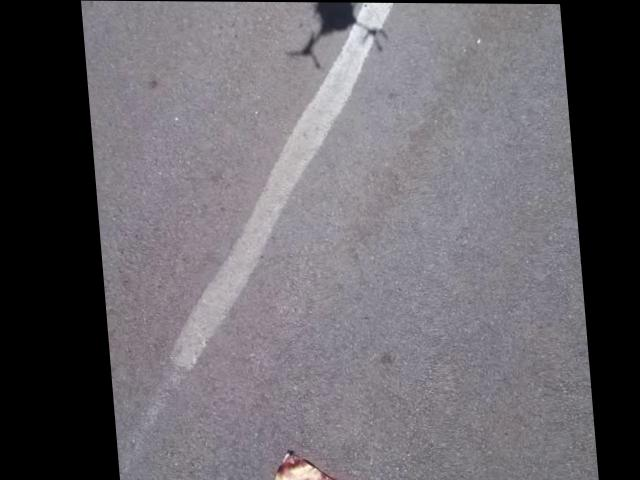fire-poster: (231, 449, 394, 480)
